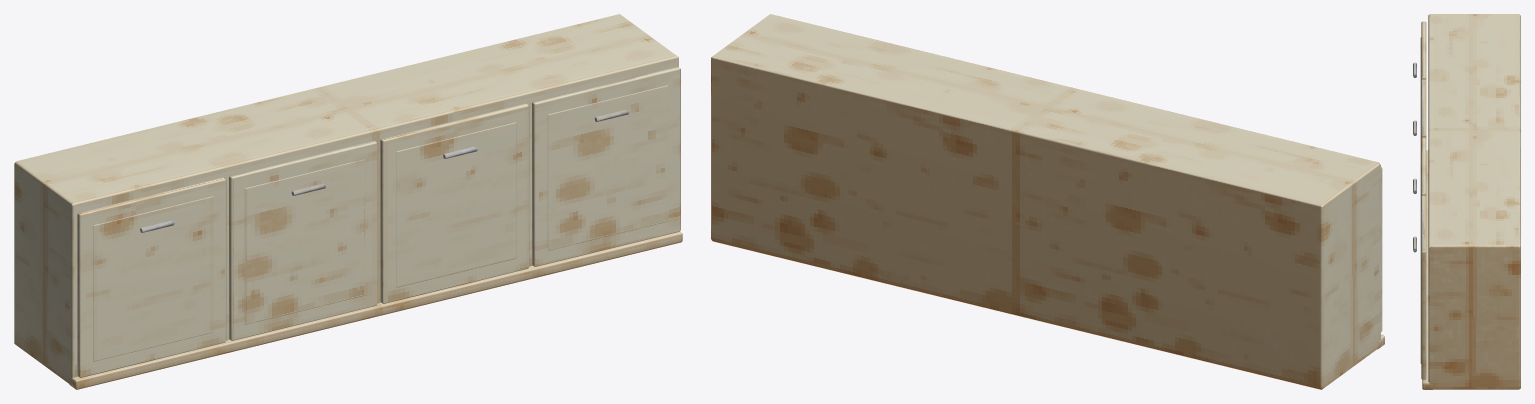
Rendered from wall_cupboard.glb.
3 views of the same model, side by side, from view 1: azimuth 30°, elevation 25°; view 2: azimuth 150°, elevation 25°; view 3: azimuth 270°, elevation 25° (orthographic). The views are drawn at different scales.
Parts seen in each view (by area): view 1: mesh; view 2: mesh; view 3: mesh.
Part boxes in pixels (x1=…): mesh: x1=14, y1=14, x2=682, y2=389; mesh: x1=711, y1=14, x2=1384, y2=389; mesh: x1=1413, y1=14, x2=1520, y2=389.
Bounding box in the file's own units: 1.9 × 0.55 × 0.372.
1 material, 1 textured.
